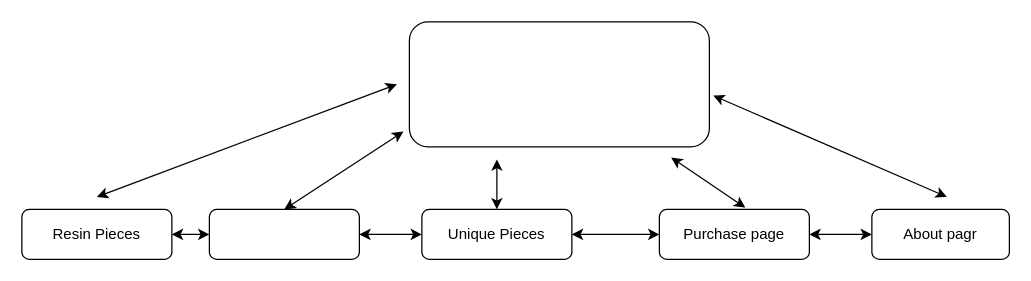
The diagram is 1031 pixels wide and 281 high, and some of its shapes have lost their labels. Each missing label, with the box of its shape:
Floral Inlaid Wood: (208, 208, 359, 259)
Home Page: (408, 21, 709, 147)
